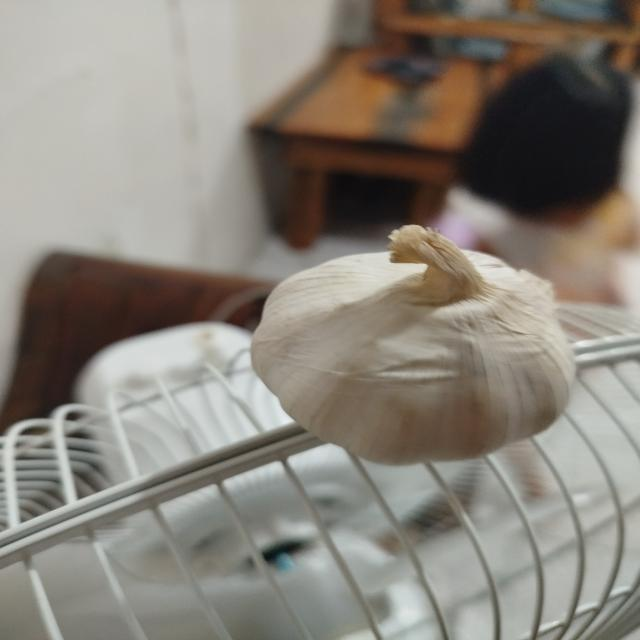garlic: (249, 223, 577, 466)
